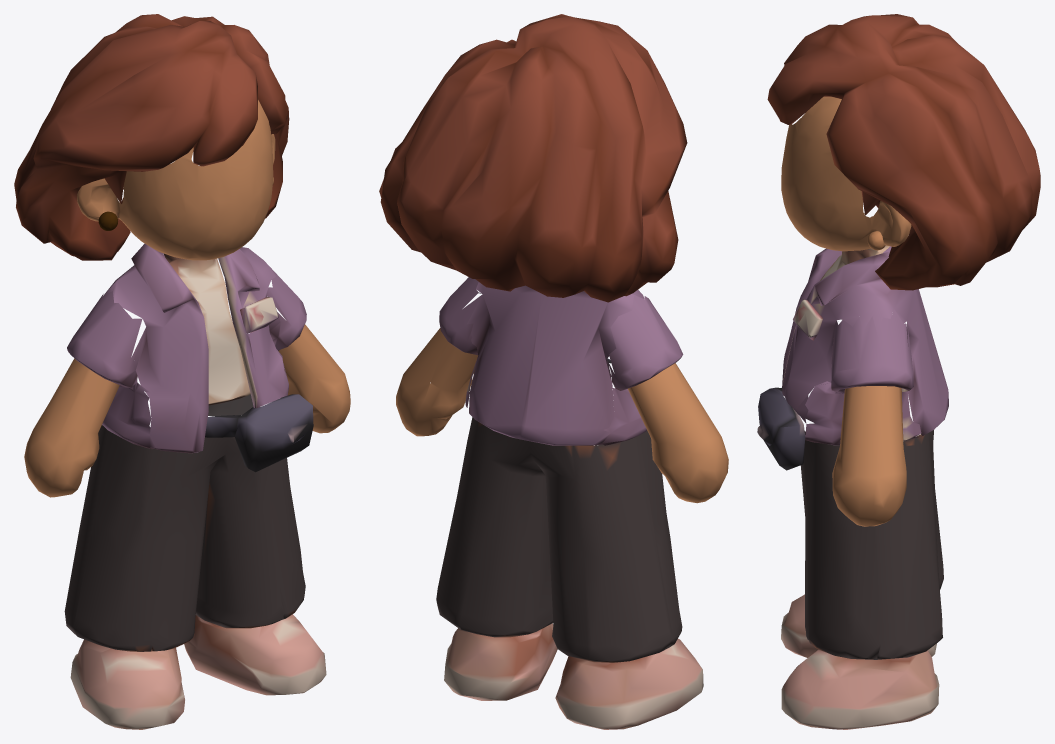
3 views of the same model, side by side, from view 1: azimuth 30°, elevation 25°; view 2: azimuth 150°, elevation 25°; view 3: azimuth 270°, elevation 25° (orthographic). The views are drawn at different scales.
Visible parts, largest first — view 1: bottom, hair, top, head, shoe_l, shoe_r, hand_r, sleeve_r, hand_l, sleeve_l; view 2: hair, bottom, top, shoe_r, hand_r, shoe_l, sleeve_r, hand_l, sleeve_l; view 3: hair, bottom, top, shoe_l, head, hand_l, sleeve_l, shoe_r.
Boxes of the visible parts, <box> form: bottom: <box>64,425,305,651</box>; hair: <box>14,14,289,260</box>; top: <box>103,243,313,472</box>; head: <box>77,100,275,260</box>; shoe_l: <box>184,614,326,695</box>; shoe_r: <box>70,639,184,729</box>; hand_r: <box>24,358,119,497</box>; sleeve_r: <box>67,291,155,449</box>; hand_l: <box>278,324,350,433</box>; sleeve_l: <box>267,267,306,392</box>; hair: <box>379,14,687,302</box>; bottom: <box>436,417,682,662</box>; top: <box>467,282,644,445</box>; shoe_r: <box>555,638,703,729</box>; hand_r: <box>628,363,728,503</box>; shoe_l: <box>444,623,557,700</box>; sleeve_r: <box>602,295,683,445</box>; hand_l: <box>396,328,477,436</box>; sleeve_l: <box>439,277,482,407</box>; hair: <box>767,14,1040,290</box>; bottom: <box>800,430,943,659</box>; top: <box>757,245,948,470</box>; shoe_l: <box>781,649,939,729</box>; head: <box>781,96,911,251</box>; hand_l: <box>832,386,906,526</box>; sleeve_l: <box>805,309,921,445</box>; shoe_r: <box>781,594,936,657</box>.
Bounding box in the file's own units: 0.5191 × 1.03 × 0.4047.
